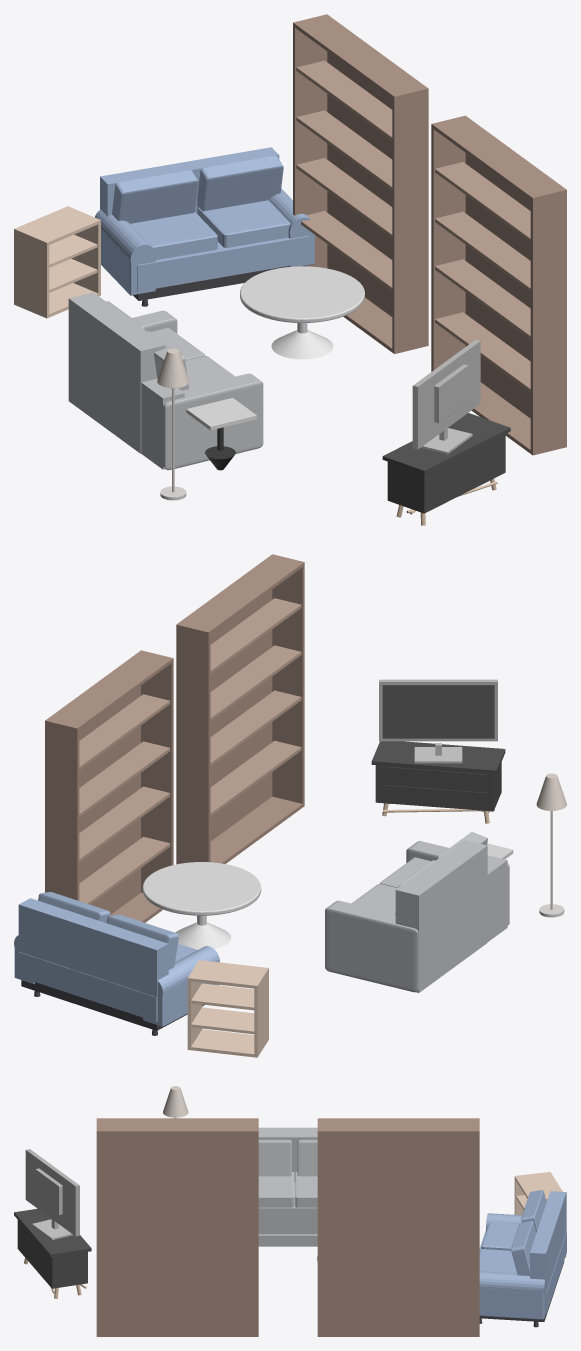
The model's file is previous_scene.glb.
3 renders of one model, top to bottom at view 1: azimuth 30°, elevation 25°; view 2: azimuth 150°, elevation 25°; view 3: azimuth 270°, elevation 25°, orthographic. The views are drawn at different scales.
Visible parts, largest first — view 1: bookcase_L, bookcase_R, blue_sofa, gray_sofa, cube_shelf, tv_stand, round_table, tv, small_table, floor_lamp; view 2: bookcase_L, bookcase_R, gray_sofa, blue_sofa, tv, tv_stand, cube_shelf, round_table, floor_lamp; view 3: bookcase_L, bookcase_R, blue_sofa, gray_sofa, tv_stand, tv, cube_shelf, floor_lamp.
Part boxes in pixels (x1,y1,x2,y2): bookcase_L: (431,115,566,455); bookcase_R: (293,14,428,353); blue_sofa: (95,147,314,306); gray_sofa: (68,292,263,470); cube_shelf: (14,206,100,318); tv_stand: (382,413,510,525); round_table: (240,266,364,359); tv: (412,340,480,454); small_table: (186,398,256,470); floor_lamp: (157,348,189,500); bookcase_L: (176,554,304,864); bookcase_R: (45,650,173,922); gray_sofa: (325,832,509,992); blue_sofa: (14,892,219,1035); tv: (379,679,497,763); tv_stand: (371,741,505,823); cube_shelf: (187,960,268,1057); round_table: (142,862,261,949); floor_lamp: (536,773,566,917); bookcase_L: (96,1118,258,1336); bookcase_R: (317,1118,479,1336); blue_sofa: (479,1190,566,1327); gray_sofa: (258,1127,317,1246); tv_stand: (14,1208,91,1298); tv: (25,1149,79,1240); cube_shelf: (514,1172,566,1257); floor_lamp: (163,1086,188,1118).
Bounding box in the file's own units: 3.46 × 2.38 × 5.81.
